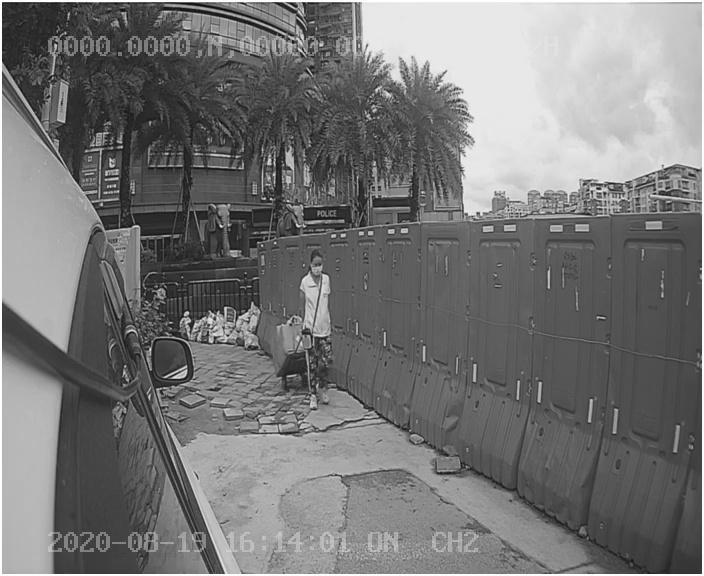person: (285, 247, 354, 414)
